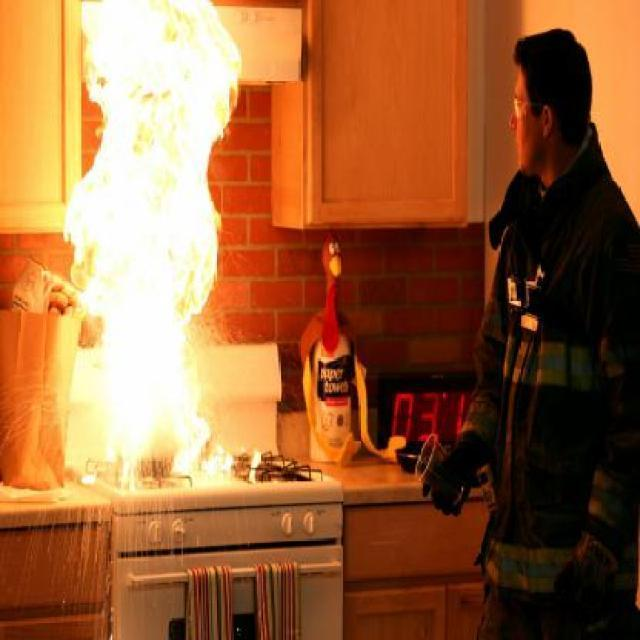Fire: (46, 1, 235, 484)
